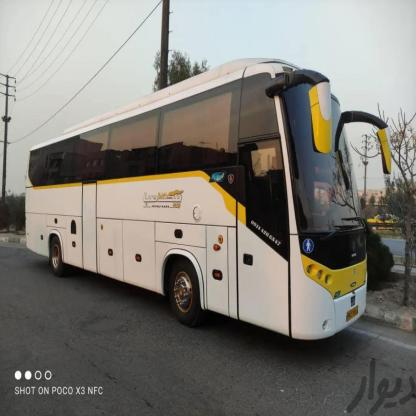Bus: (26, 61, 391, 345)
